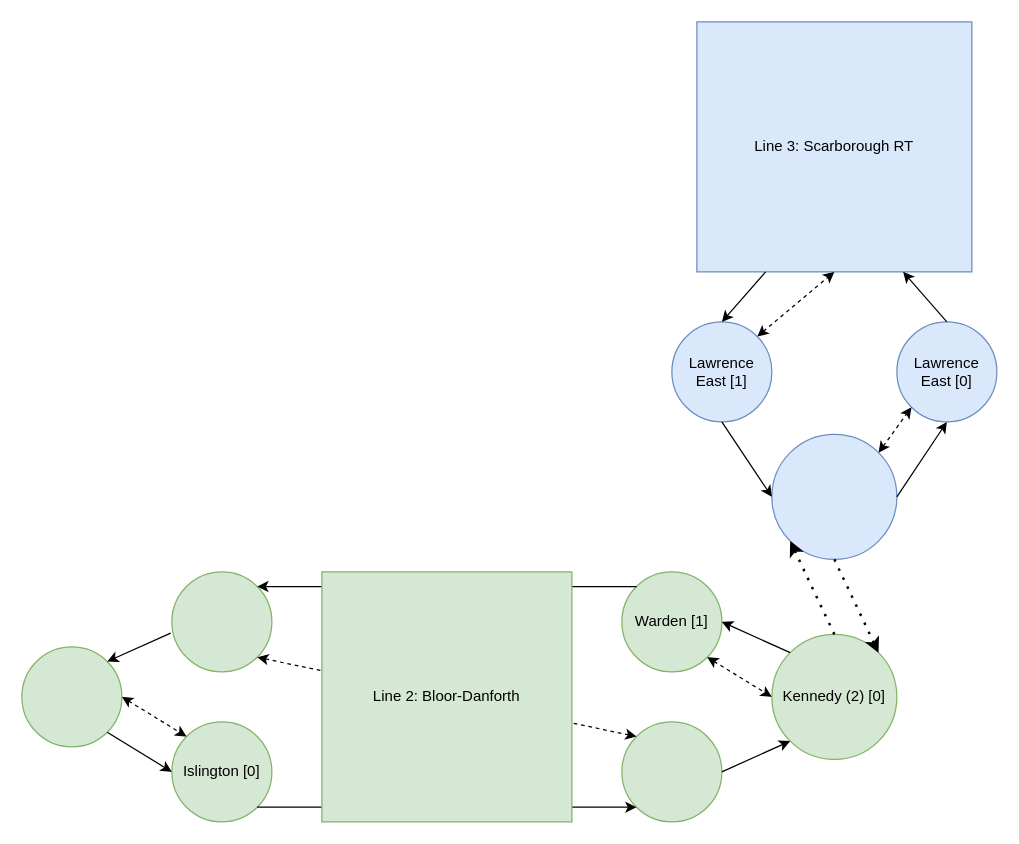
Some shapes in this 1019 by 844 pixel diagram are drawn without their labels. Each missing label, with the centre of its shape:
Islington [1]: (221,621)
Kennedy (3) [0]: (834,496)
Kipling: (71,696)
Warden [0]: (671,771)
